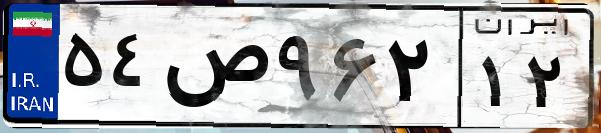1: (475, 38, 525, 113)
2: (385, 28, 445, 110), (525, 38, 570, 115)
4: (110, 28, 158, 98)
5: (57, 26, 110, 100)
6: (330, 28, 385, 110)
9: (270, 28, 330, 110)
ص: (158, 20, 270, 120)
